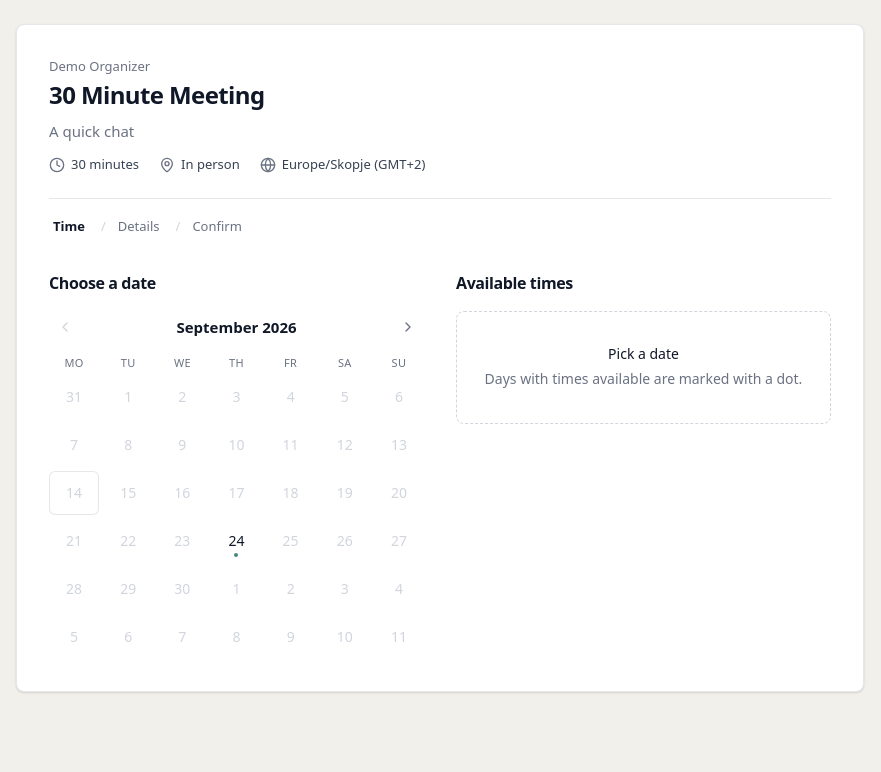
Test: BookingPage — details › will not continue until the fields a booking cannot do without are filled
The width and height of the screenshot is (881, 772).
Click the cell "24" at coordinates (236, 541), box [211,519,262,563]
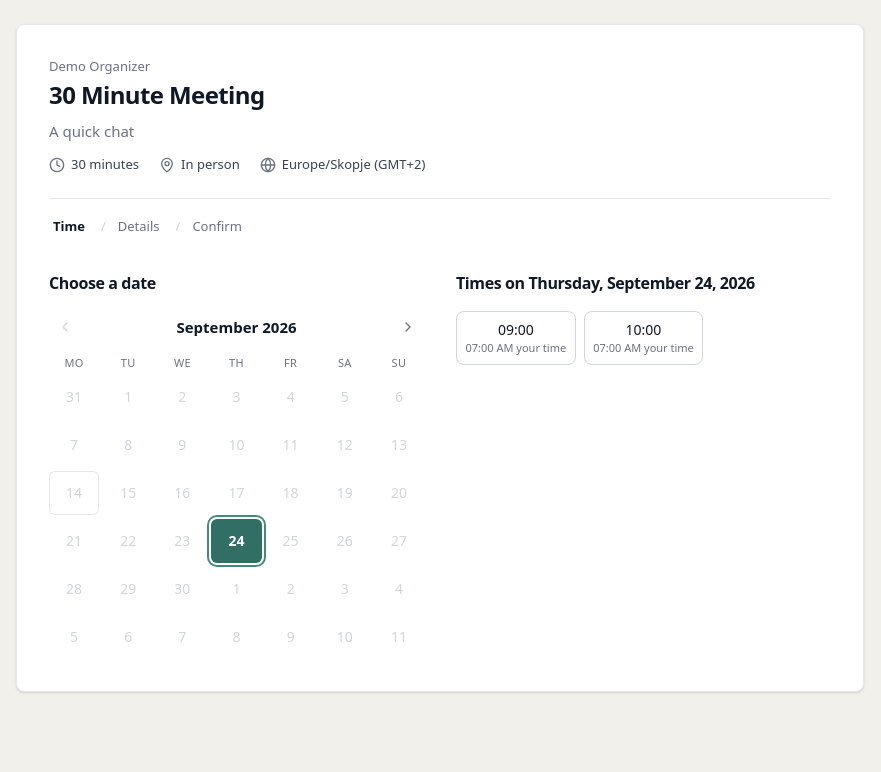
Click the button "09:00 07:00 AM your time" at coordinates (516, 338), box [456,311,576,365]
(page scrolled)
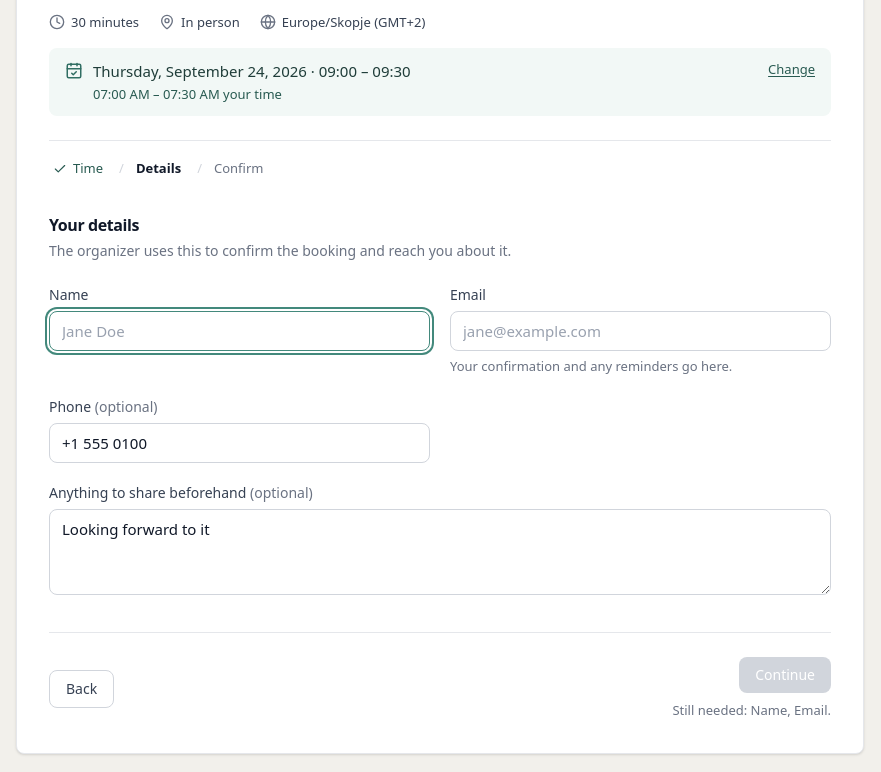
Now the field labelled "Name" is shown, box [49,310,430,351]
Now the button "Continue" is disabled, box [739,657,831,693]
Now the text "Still needed: Name, Email." is shown, box [672,701,831,720]
